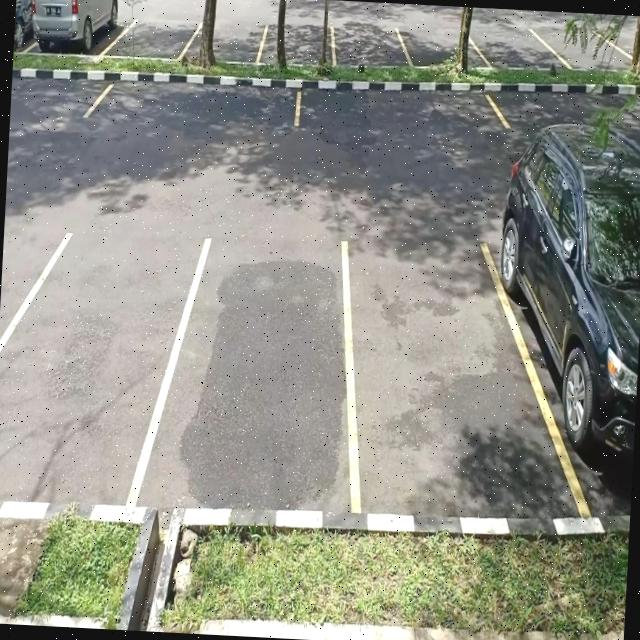empty: (156, 235, 360, 526), (0, 219, 172, 512), (349, 236, 527, 518), (294, 76, 503, 150), (92, 76, 302, 140), (118, 9, 198, 67), (402, 22, 484, 78), (194, 16, 268, 72), (260, 22, 336, 73), (332, 23, 408, 74), (480, 26, 556, 72)
occupied: (502, 159, 640, 514), (26, 0, 124, 68)
